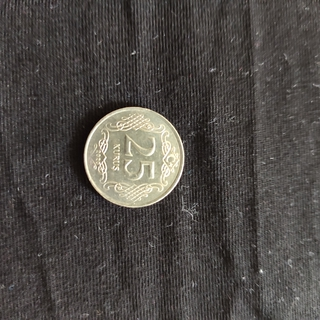25KURUS: (80, 104, 185, 209)
